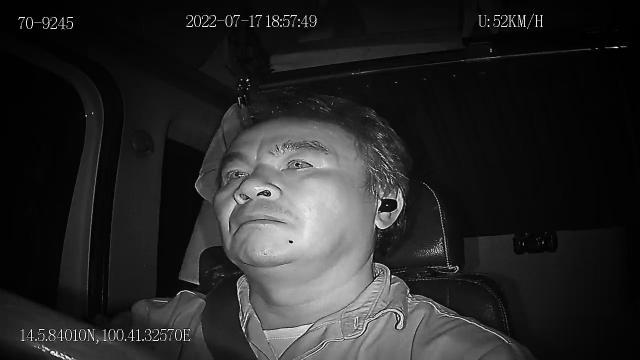SafeDriving: (276, 148, 321, 178), (216, 157, 252, 186)
Seatbelt: (198, 270, 260, 360)
